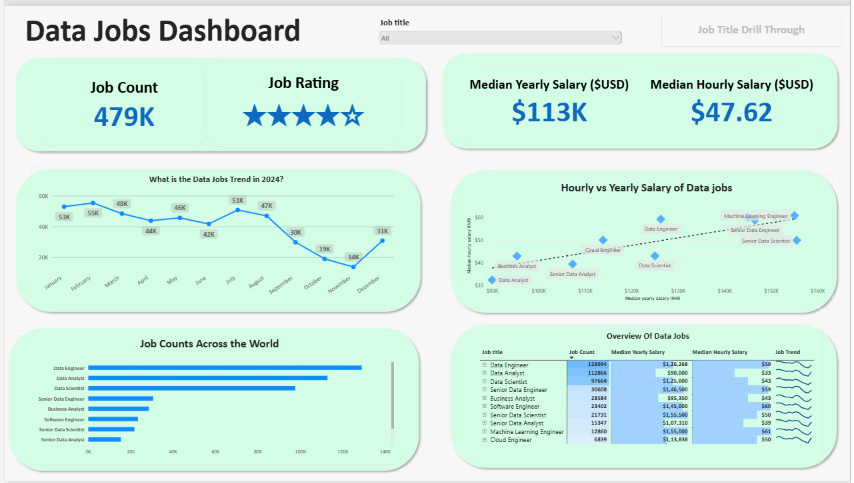

The dashboard page shown, as its layout file describes it:
{"tool":"powerbi","page":{"name":"Data Jobs Dashboard","canvas":[1920,1080],"ordinal":0},"visuals":[{"type":"group","id":"g1","title":"Background","box":[0,98.4,1900,966.4],"z":0},{"type":"shape","box":[16.7,110.5,950,230],"z":0,"group":"g1"},{"type":"textbox","box":[0,0,730,105],"z":1000},{"type":"shape","box":[985,98.4,915,235],"z":1000,"group":"g1"},{"type":"slicer","fields":{"Values":["job_postings_flat.job_title_short"]},"box":[845,25,562.5,80],"z":2000},{"type":"shape","box":[15,362.3,937.5,342.5],"z":2000,"group":"g1"},{"type":"cardVisual","fields":{"Data":["CountNonNull(job_postings_flat.job_title_short)"]},"box":[83.3,126.7,373.3,196.7],"z":3000},{"type":"shape","box":[1005,364.8,895,342.5],"z":3000,"group":"g1"},{"type":"cardVisual","fields":{"Data":["job_postings_flat.Job Rating"]},"box":[455,125,447.5,190],"z":4000},{"type":"shape","box":[0,722.3,950,342.5],"z":4000,"group":"g1"},{"type":"cardVisual","fields":{"Data":["Median(job_postings_flat.salary_year_avg)"]},"box":[1032.5,132.5,405,175],"z":5000},{"type":"shape","box":[1005,717.3,895,342.5],"z":5000,"group":"g1"},{"type":"cardVisual","fields":{"Data":["Median(job_postings_flat.salary_hour_avg)"]},"box":[1445,132.5,412.5,175],"z":6000},{"type":"lineChart","title":"What is the Data Jobs Trend in 2024?","fields":{"Category":["job_postings_flat.job_posted_date.Variation.Date Hierarchy.Month"],"Y":["CountNonNull(job_postings_flat.job_title_short)"]},"box":[60,365,842.5,322.5],"z":7000},{"type":"scatterChart","title":"Hourly vs Yearly Salary of Data jobs","fields":{"Category":["job_postings_flat.job_title_short"],"X":["Median(job_postings_flat.salary_year_avg)"],"Y":["Median(job_postings_flat.salary_hour_avg)"]},"box":[1032.5,382.5,847.5,305],"z":8000},{"type":"barChart","title":"Job Counts Across the World","fields":{"Category":["job_postings_flat.job_title_short"],"Y":["CountNonNull(job_postings_flat.job_title_short)"]},"box":[27.5,735,875,305],"z":9000},{"type":"pivotTable","title":"Overview Of Data Jobs","fields":{"Rows":["job_postings_flat.job_title_short","job_postings_flat.job_posted_date.Variation.Date Hierarchy.Quarter"],"Values":["CountNonNull(job_postings_flat.job_title_short)","Median(job_postings_flat.salary_year_avg)","Median(job_postings_flat.salary_hour_avg)","SparklineData(CountNonNull(job_postings_flat.job_title_short)_[job_postings_flat.job_posted_date.Variation.Date Hierarch"]},"box":[1062.5,722.5,795,317.5],"z":10000},{"type":"actionButton","box":[1492.5,17.5,407.5,72.5],"z":11000}]}

Visuals, with their boxes in screenshot pixels (x1, y1, x2, y2), scaled from the page's 1920x1080 canvas onto the 854x483 screenshot:
"Background" group: Rect(0, 44, 845, 476)
shape: Rect(7, 49, 430, 152)
textbox: Rect(0, 0, 325, 47)
shape: Rect(438, 44, 845, 149)
slicer - job_postings_flat.job_title_short: Rect(376, 11, 626, 47)
shape: Rect(7, 162, 424, 315)
cardVisual - CountNonNull(job_postings_flat.job_title_short): Rect(37, 57, 203, 145)
shape: Rect(447, 163, 845, 316)
cardVisual - job_postings_flat.Job Rating: Rect(202, 56, 401, 141)
shape: Rect(0, 323, 423, 476)
cardVisual - Median(job_postings_flat.salary_year_avg): Rect(459, 59, 639, 138)
shape: Rect(447, 321, 845, 474)
cardVisual - Median(job_postings_flat.salary_hour_avg): Rect(643, 59, 826, 138)
"What is the Data Jobs Trend in 2024?" lineChart: Rect(27, 163, 401, 307)
"Hourly vs Yearly Salary of Data jobs" scatterChart: Rect(459, 171, 836, 307)
"Job Counts Across the World" barChart: Rect(12, 329, 401, 465)
"Overview Of Data Jobs" pivotTable: Rect(473, 323, 826, 465)
actionButton: Rect(664, 8, 845, 40)
